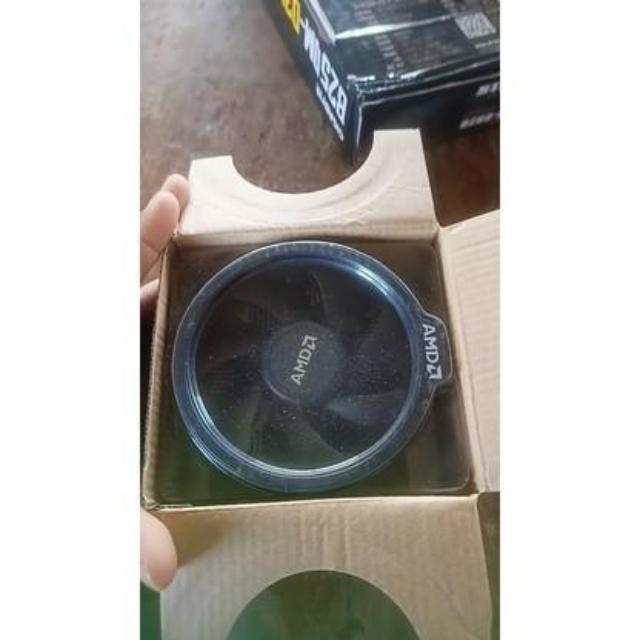CPU_Fan: (168, 238, 450, 502)
